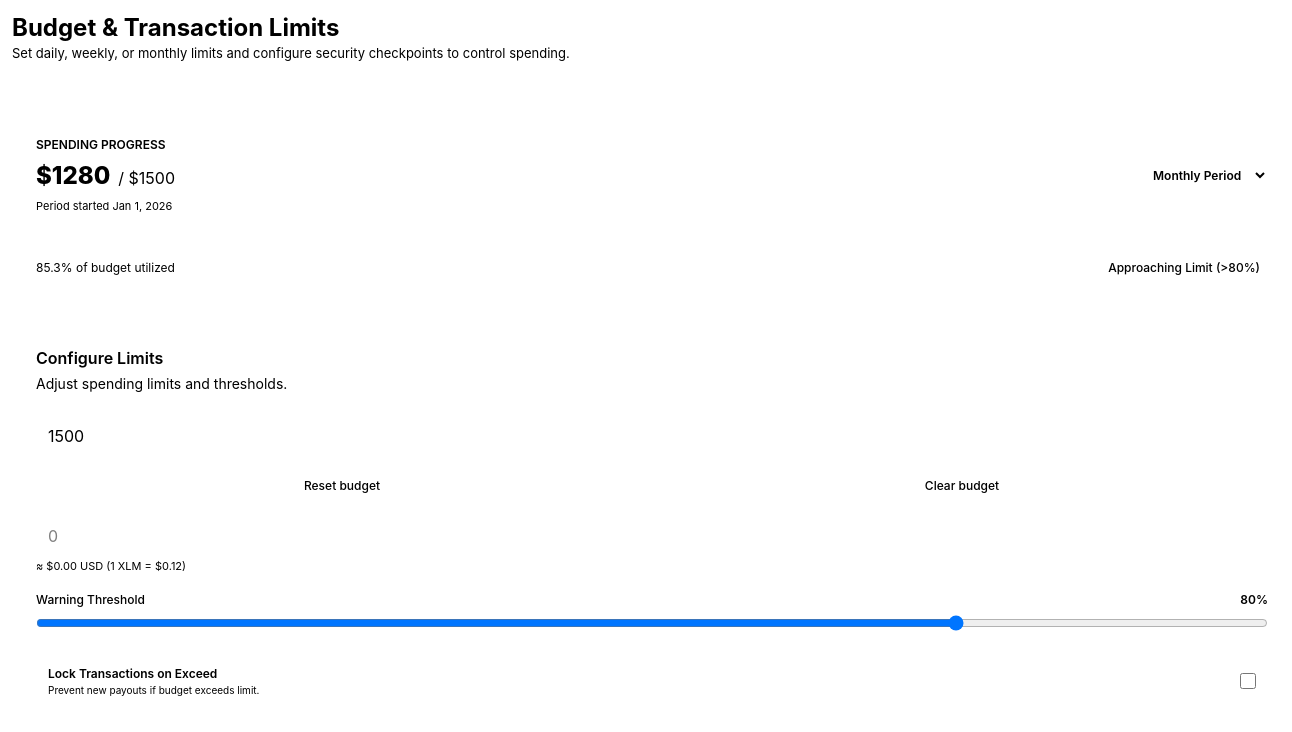
Test: BudgetScreen › can toggle transaction locking
This screenshot has width=1292, height=732.
Click the checkbox with test id "lock-checkbox": click(1248, 681) 1240,673 -> 1256,689
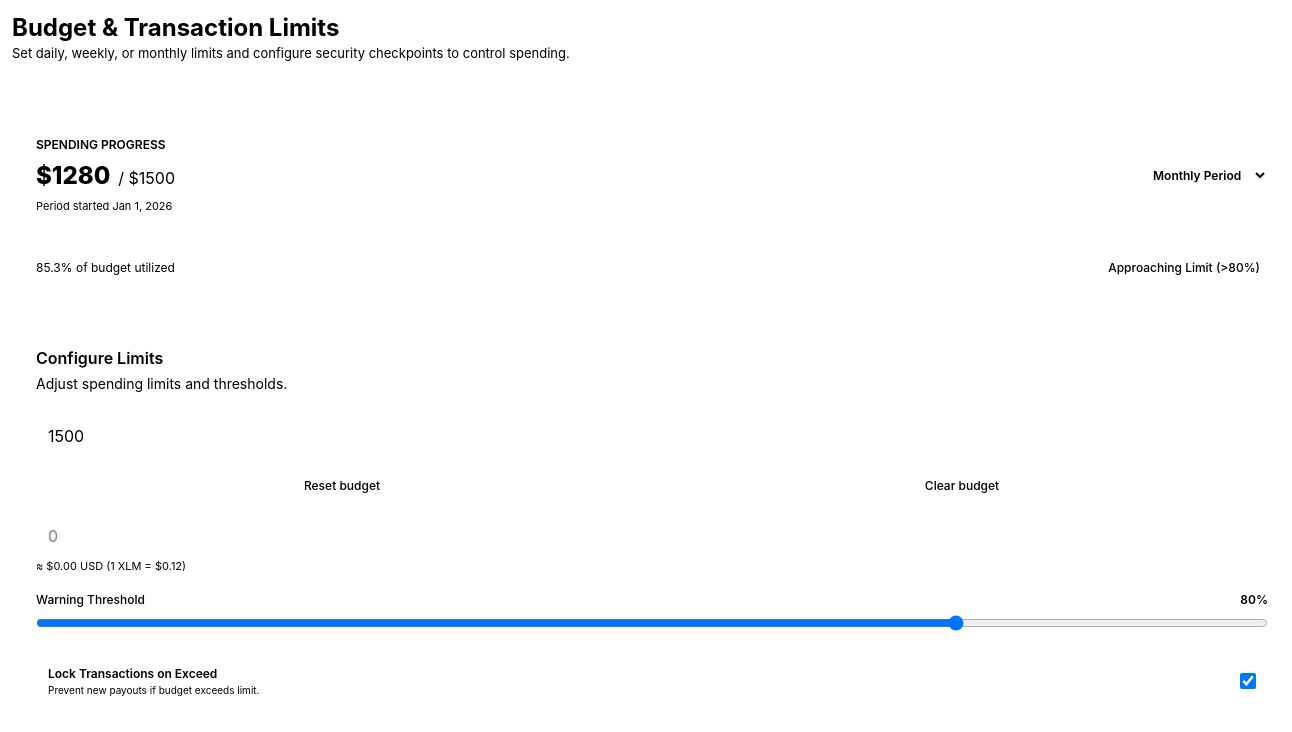
expect the checkbox with test id "lock-checkbox" is checked: met, box 1240,673 -> 1256,689
